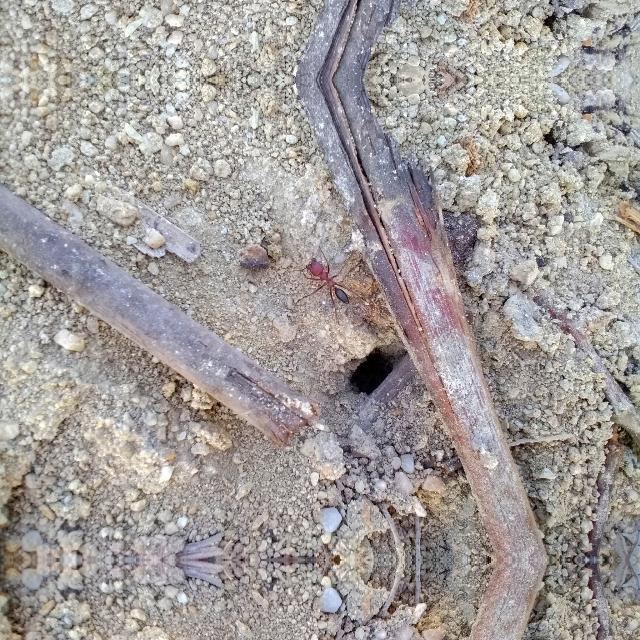Cataglyphis: (299, 254, 359, 308)
